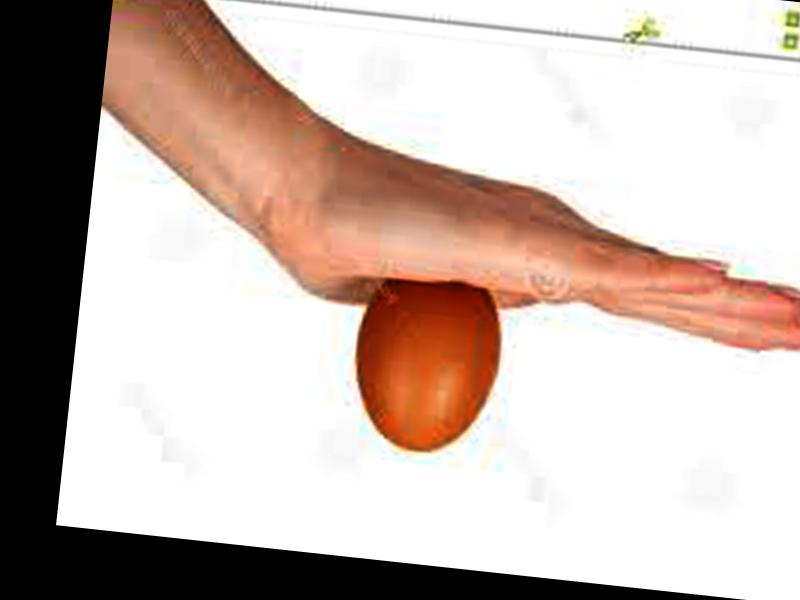Eggs: (349, 269, 507, 458)
